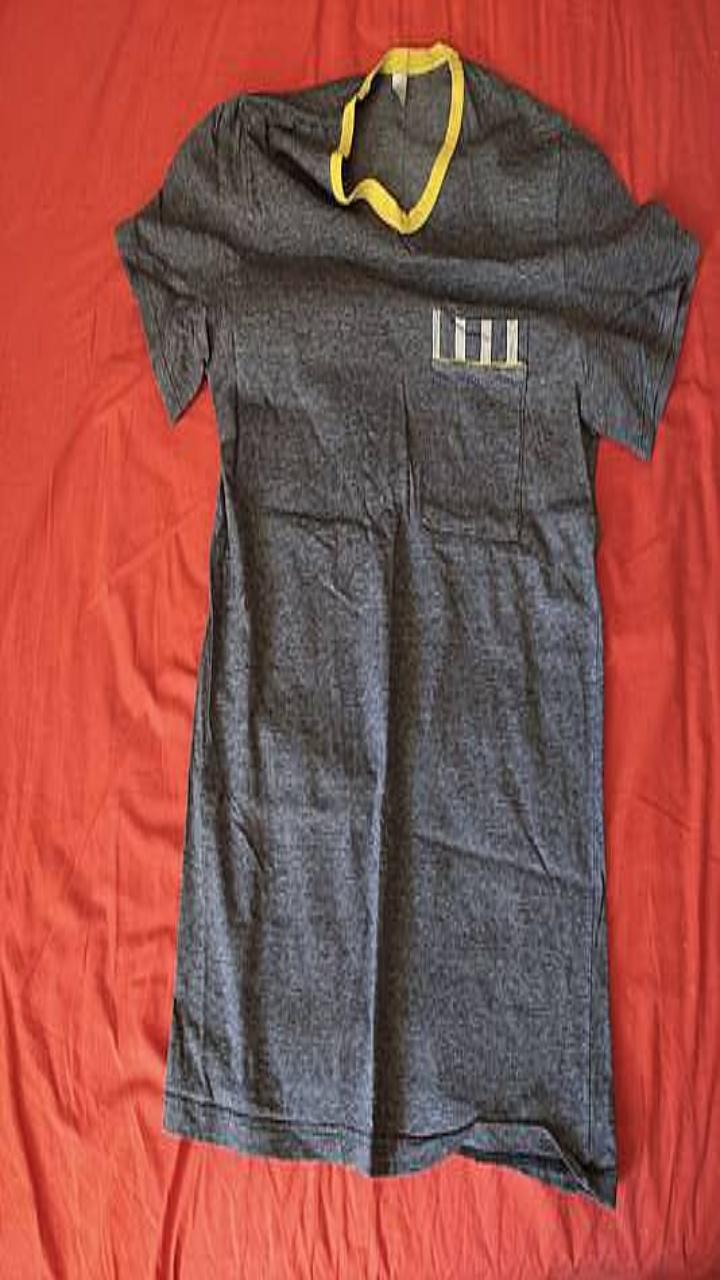T-Shirt: (115, 43, 699, 1206)
